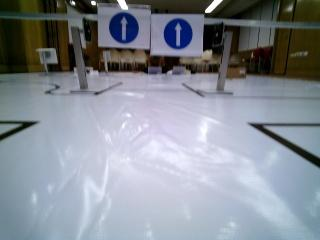straight: (149, 12, 205, 56), (98, 5, 150, 46)
